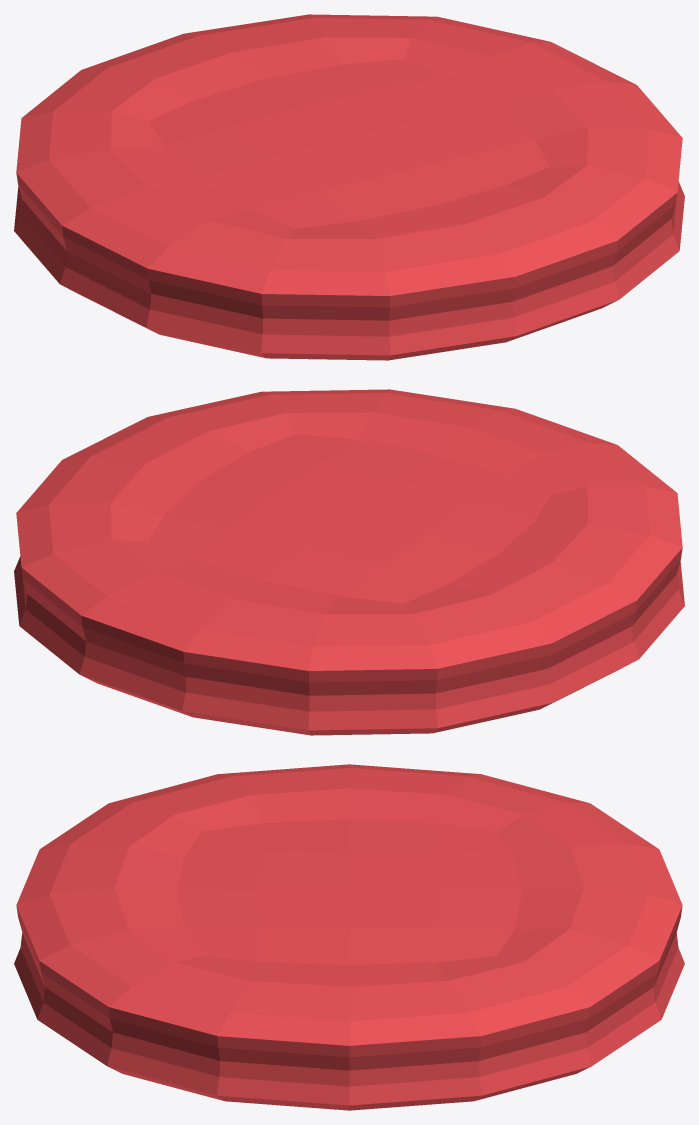
File: carne.fbx
3 views of the same model, one above another, from view 1: azimuth 30°, elevation 25°; view 2: azimuth 150°, elevation 25°; view 3: azimuth 270°, elevation 25° (orthographic).
Parts seen in each view (by area): view 1: Carne; view 2: Carne; view 3: Carne.
Boxes of the visible parts, box(x1,y1,x2,y2) form: Carne: box(14, 14, 684, 360); Carne: box(14, 389, 684, 735); Carne: box(14, 764, 684, 1110).
Size of the model in its own units: 1.7 by 0.3246 by 1.7.
